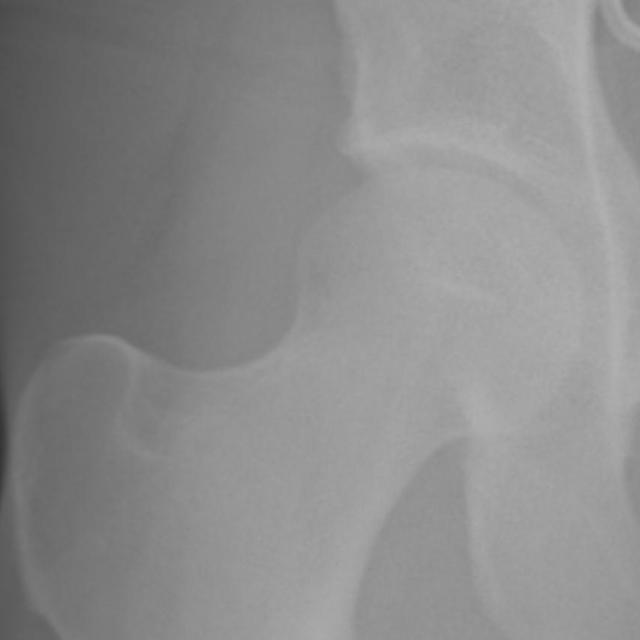Fitted_femural_head: (293, 165, 432, 293)
